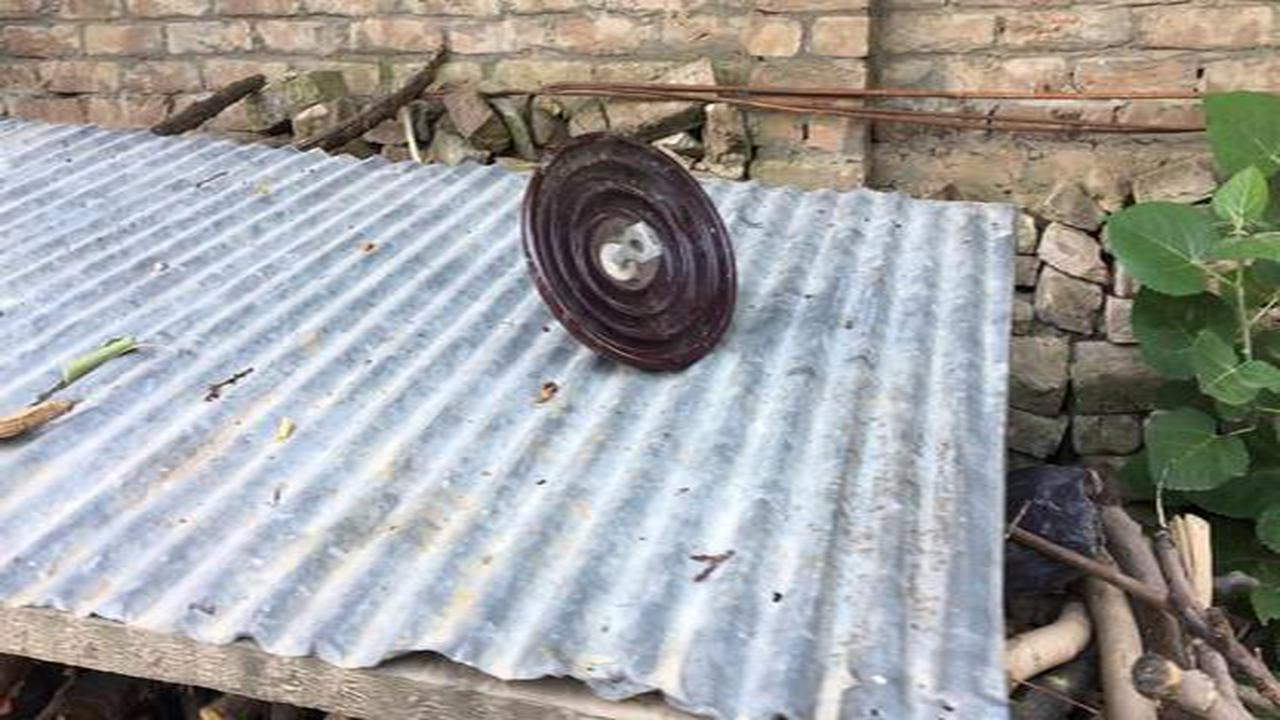insulator_disc: (517, 129, 745, 373)
